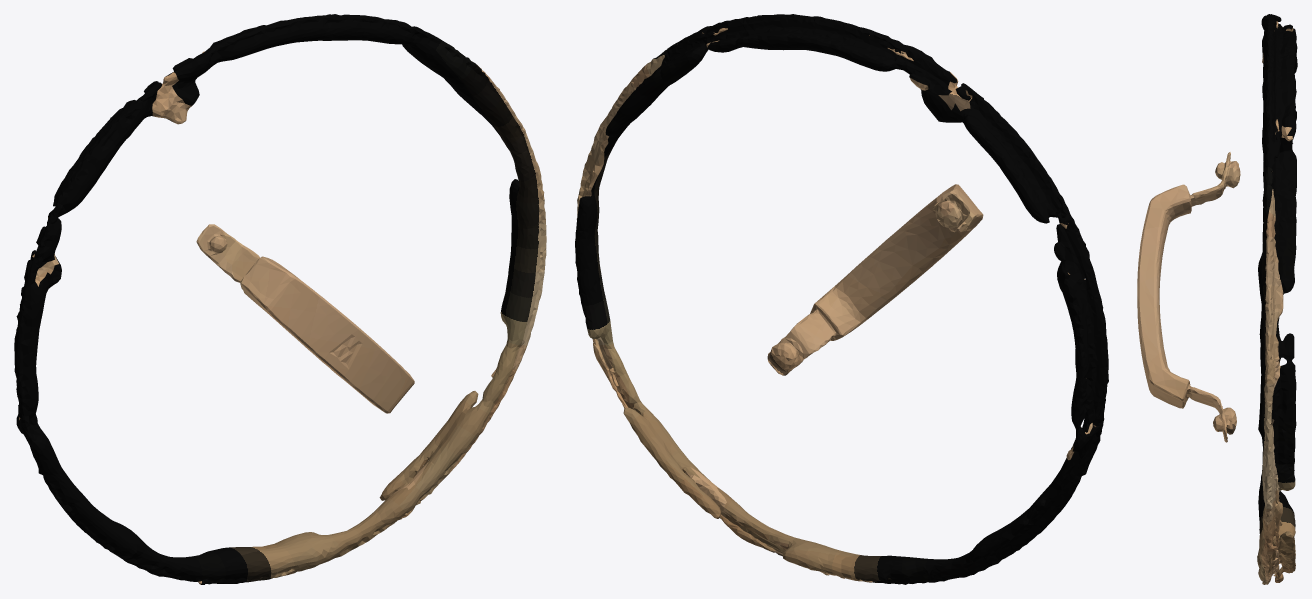
3 renders of one model, left to right at view 1: azimuth 30°, elevation 25°; view 2: azimuth 150°, elevation 25°; view 3: azimuth 270°, elevation 25°, orthographic. The views are drawn at different scales.
Size of the model in its own units: 0.2683 by 0.2676 by 0.0752.
